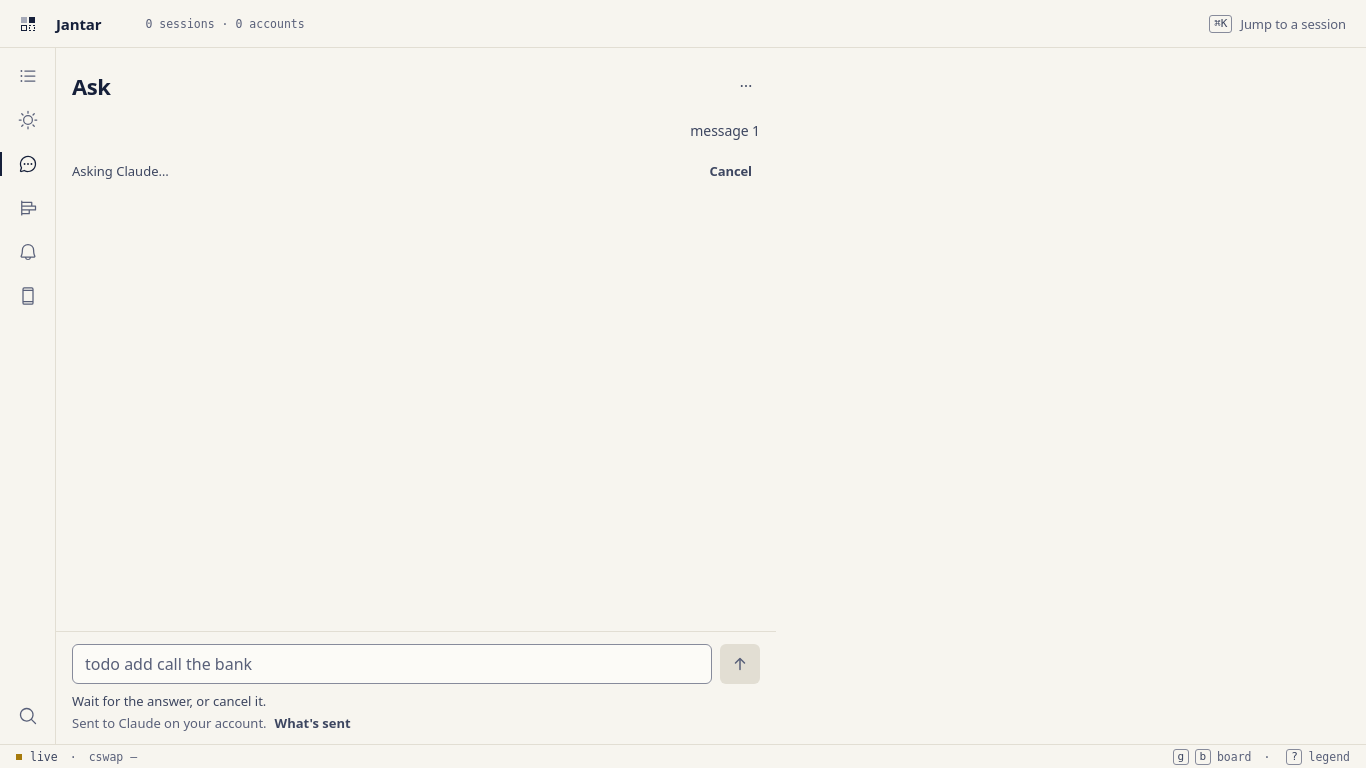
Test case: the page › a waiting turn: "Asking Claude…" with Cancel; Send waits for it while the box still takes words
Check: the text "Asking Claude…" is shown, box [72,162,169,180]
Check: the text "Wait for the answer, or cancel it." is shown, box [72,692,266,710]
In the text box named "What to add, or a question about today": (392, 664) [72,644,712,684], type "spent 250 on lunch"
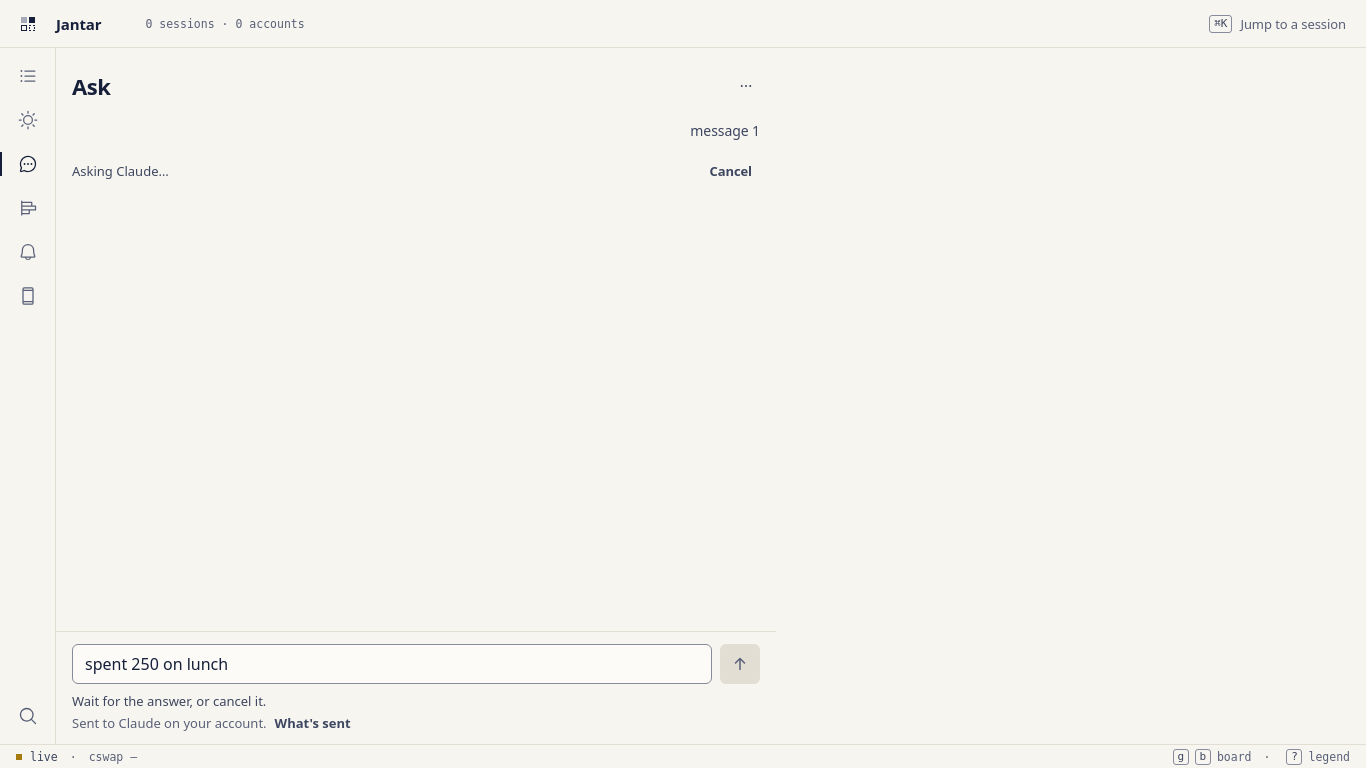
Check: the button named "Send" is disabled, box [720,644,760,684]
Click the button "Cancel": (731, 171) [702,155,760,187]
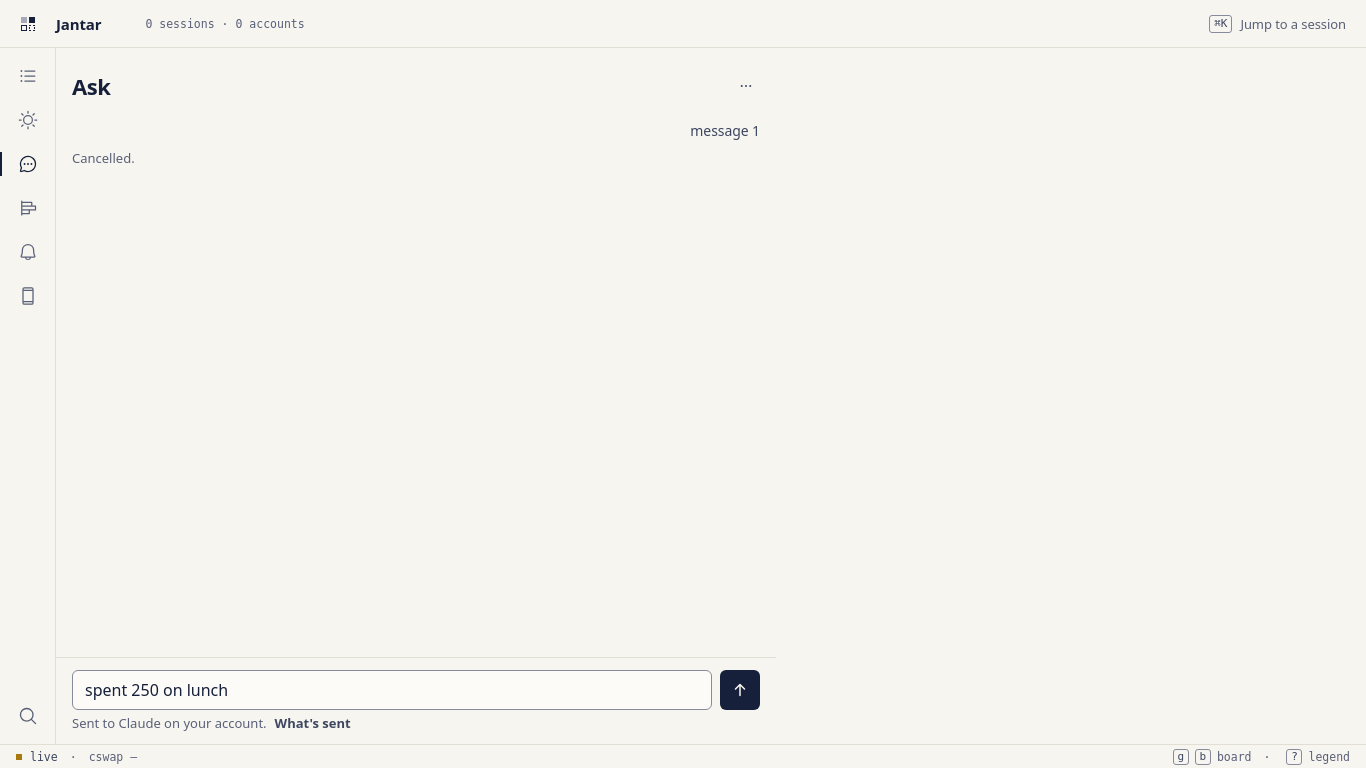
Check: the text "Cancelled." is shown, box [72,149,135,167]
Check: the text "Wait for the answer, or cancel it." is gone
Check: the button named "Send" is enabled, box [720,670,760,710]
